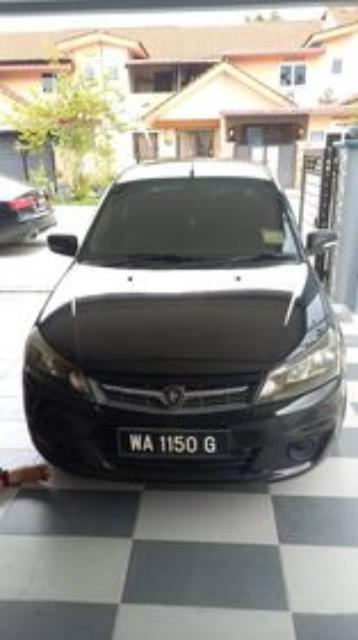License_Plate: (119, 425, 236, 463)
car: (18, 158, 351, 489)
